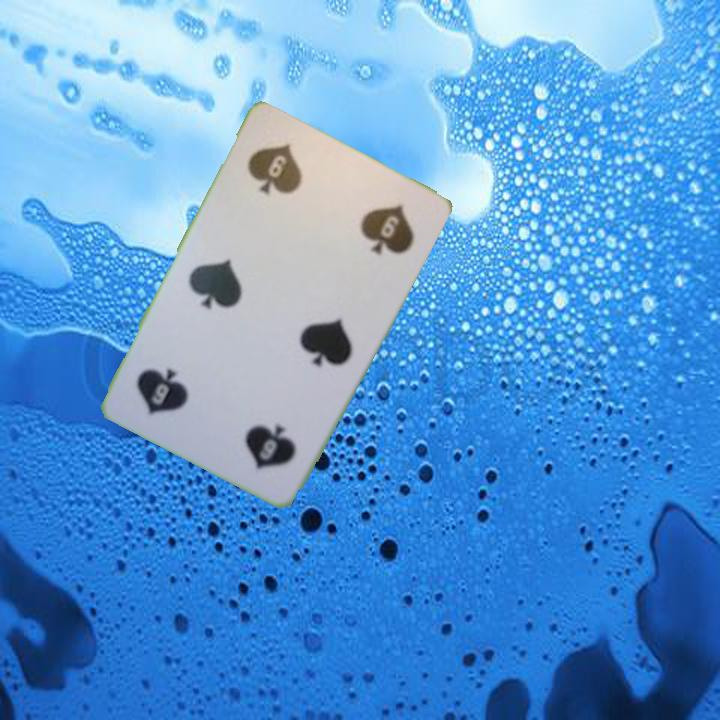s_6.png: (224, 119, 350, 240), (198, 372, 324, 492)
